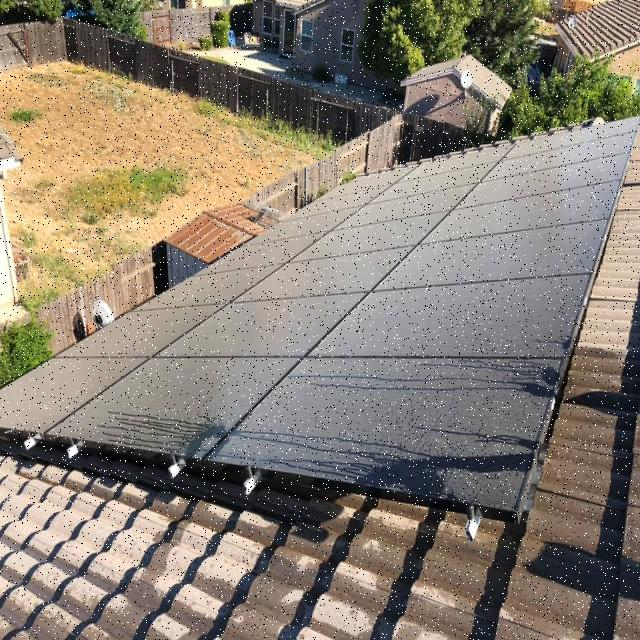dusty: (5, 114, 633, 439)
